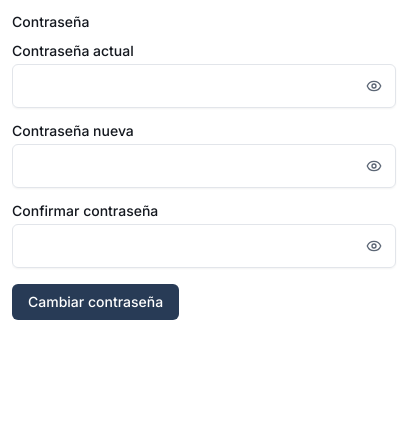
Test: PasswordSection › cuenta que ya tiene contraseña (hasPassword=true) › si la contraseña actual está mal, no llega a actualizar y muestra el error
Type "unaClaveEquivocada" into the password field labelled "Contraseña actual" at x=204, y=86, box [12,64,396,108]
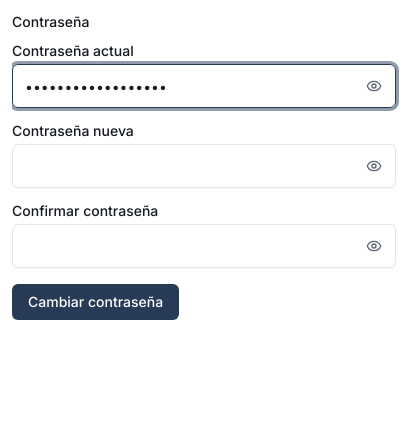
Type "laNuevaClave1" into the password field labelled "Contraseña nueva" at x=204, y=166, box [12,144,396,188]
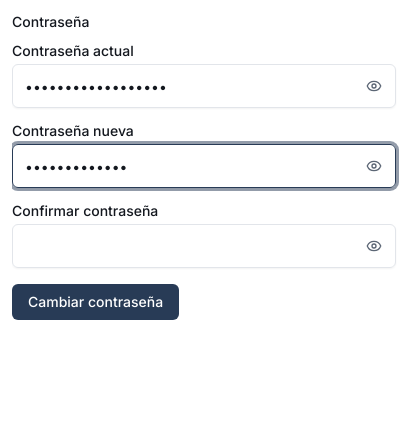
Type "laNuevaClave1" into the password field labelled "Confirmar contraseña" at x=204, y=246, box [12,224,396,268]
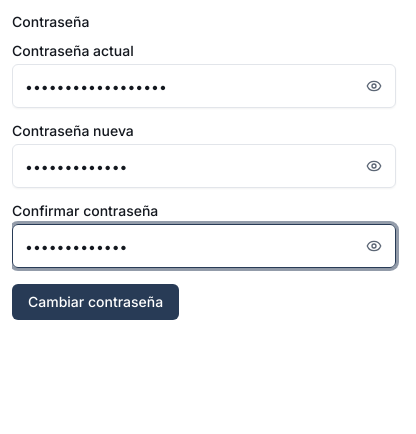
Click the button "Cambiar contraseña" at x=96, y=302, box [12,284,179,320]
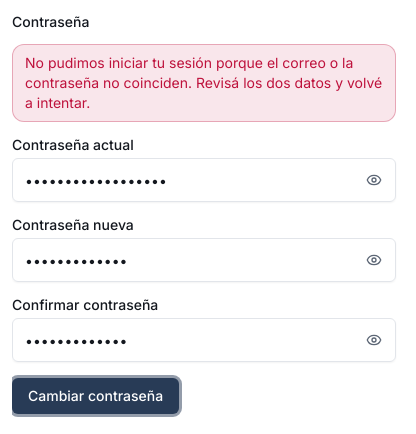
Result: the message shows "no coinciden" at [25,54,382,111]
